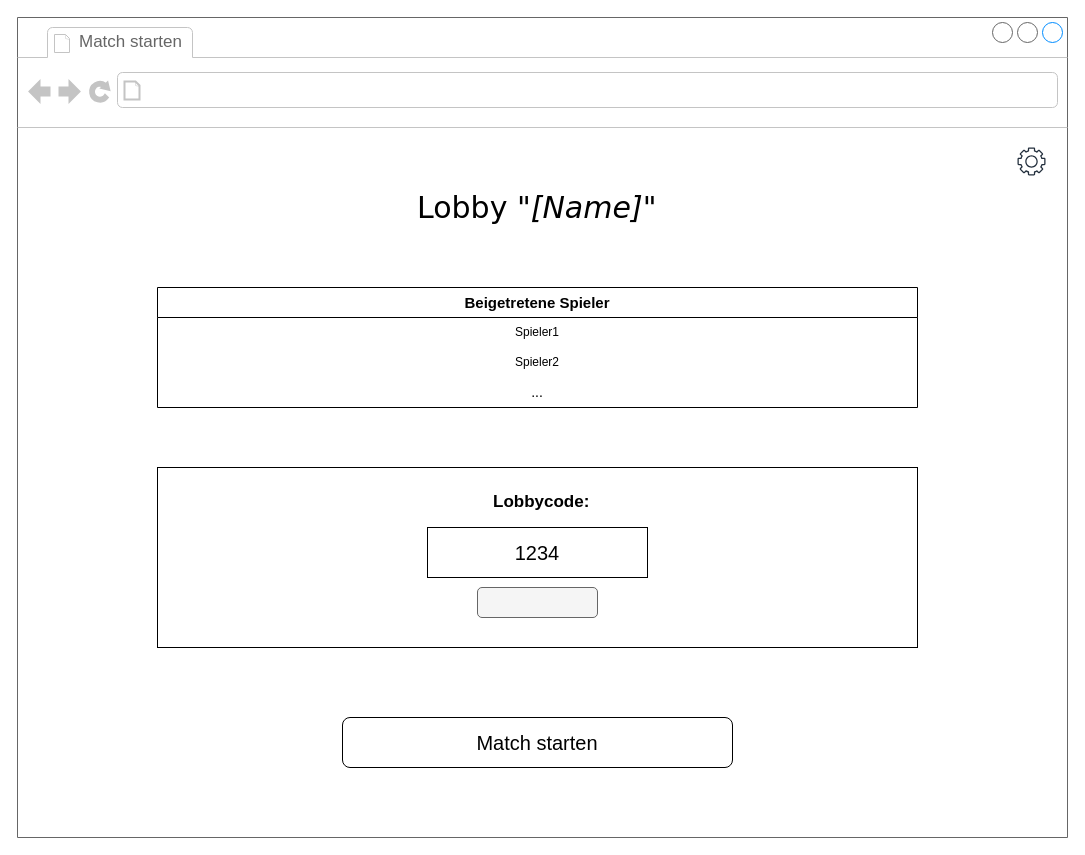
Image size: 1085x855. Some labels were removed from this diagram. Each missing label, with the centre of its shape:
"Code kopieren" goes at [537,602].
"https://hexfields-studio.github.io/HexfieldsDominion/lobby/[lobby_id]" goes at [272,90].
